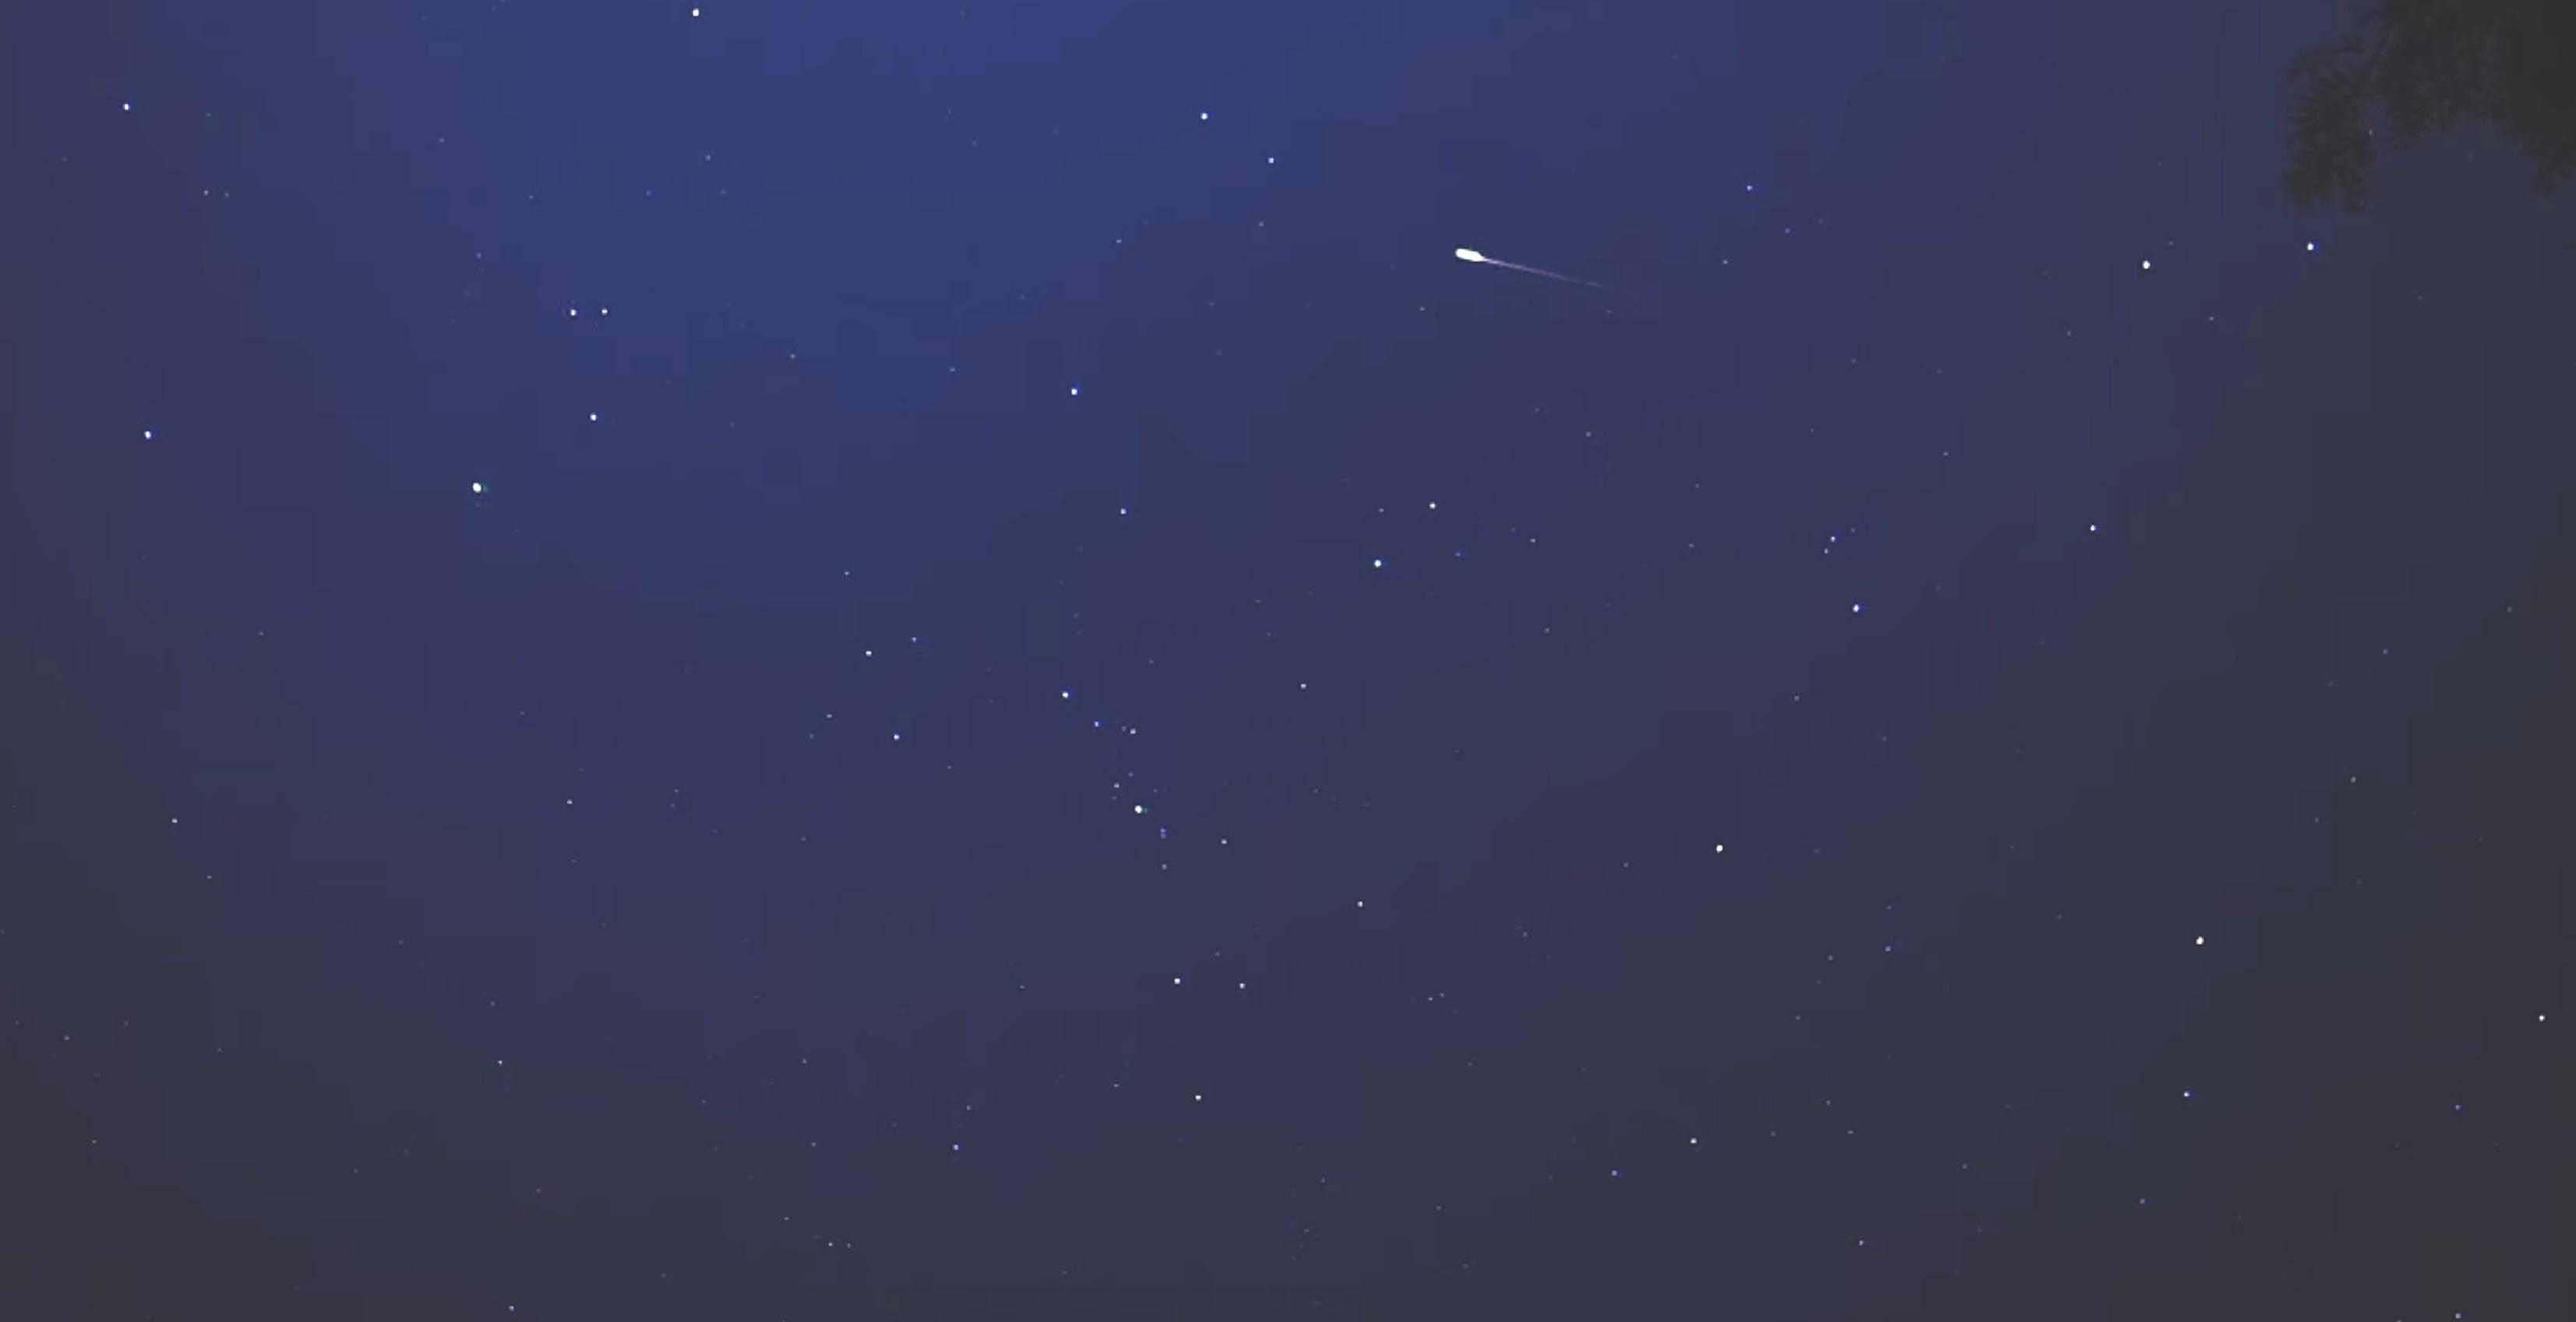meteorite: (1385, 234, 1680, 304)
